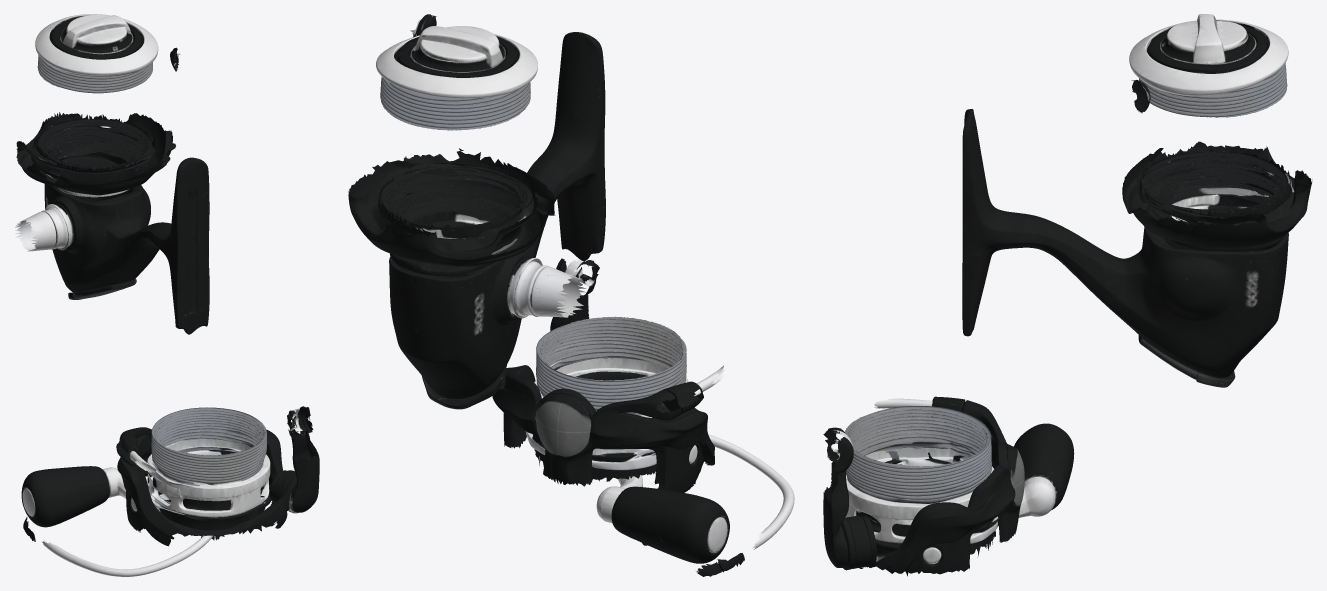
Rendered from small_hokuto.glb.
3 renders of one model, left to right at view 1: azimuth 30°, elevation 25°; view 2: azimuth 150°, elevation 25°; view 3: azimuth 270°, elevation 25°, orthographic. The views are drawn at different scales.
Visible parts, largest first — view 1: Body, Rotor, Crank, Bail; view 2: Body, Rotor, Crank, Bail; view 3: Body, Rotor, Crank.
Part boxes in pixels (x1,y1,x2,y2): Body: [15, 14, 209, 334]; Rotor: [116, 406, 319, 546]; Crank: [21, 466, 125, 527]; Bail: [23, 517, 224, 576]; Body: [348, 14, 605, 409]; Rotor: [492, 258, 724, 492]; Crank: [596, 475, 729, 563]; Bail: [696, 434, 794, 576]; Body: [962, 14, 1312, 387]; Rotor: [823, 396, 1024, 574]; Crank: [1014, 423, 1074, 517].
Bounding box in the file's own units: 0.0943 × 0.1788 × 0.1455.
1 material, 1 textured.
